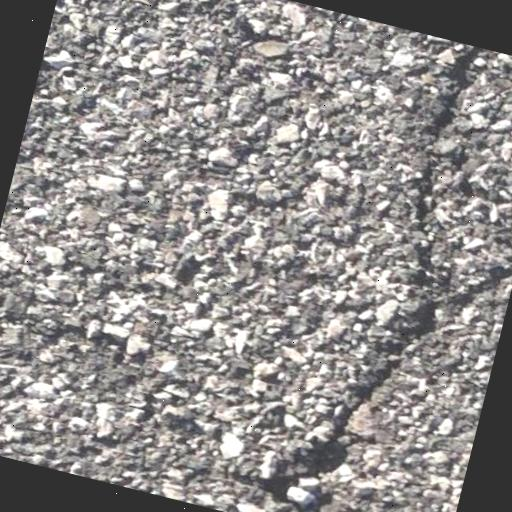spalling: (251, 45, 497, 512)
